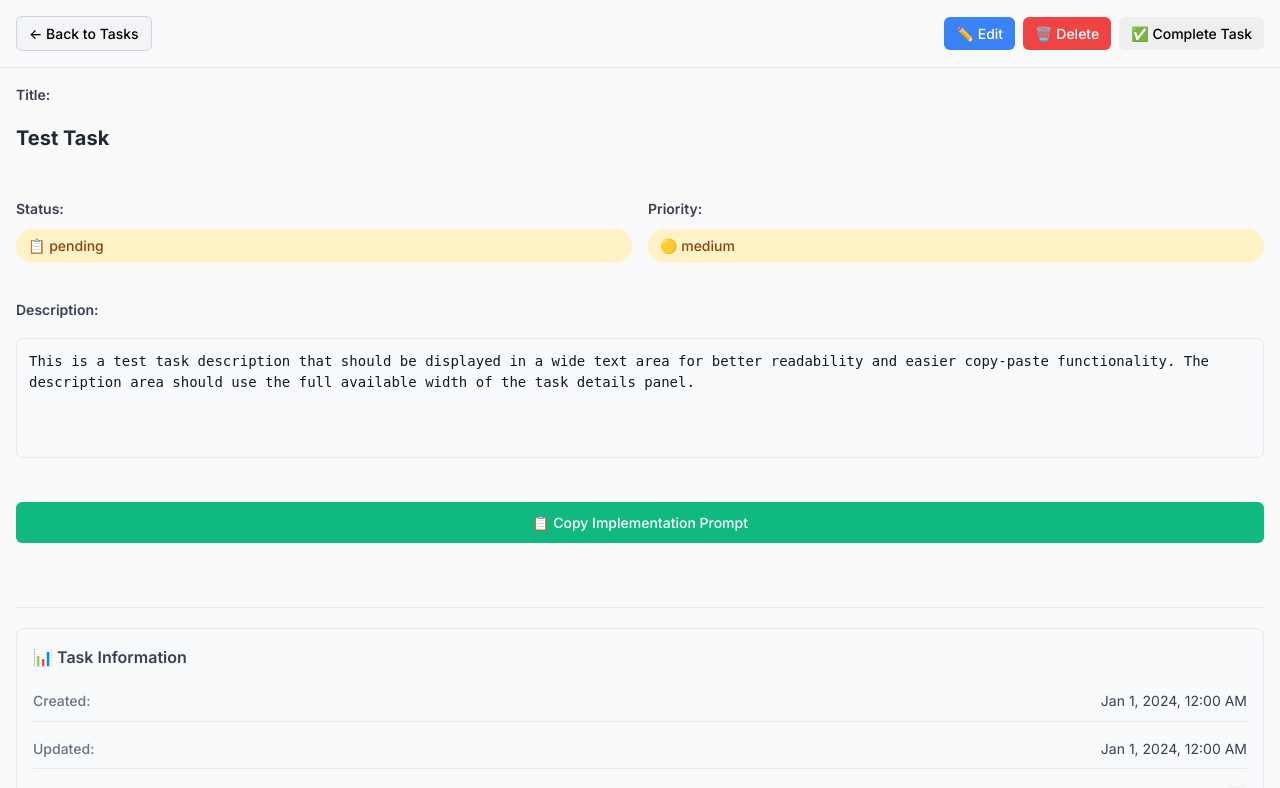
Task Description Width › description textarea uses full width in edit mode
Note: Enter edit mode
Click the button "✏️ Edit" at (980, 34), box [944,17,1015,50]
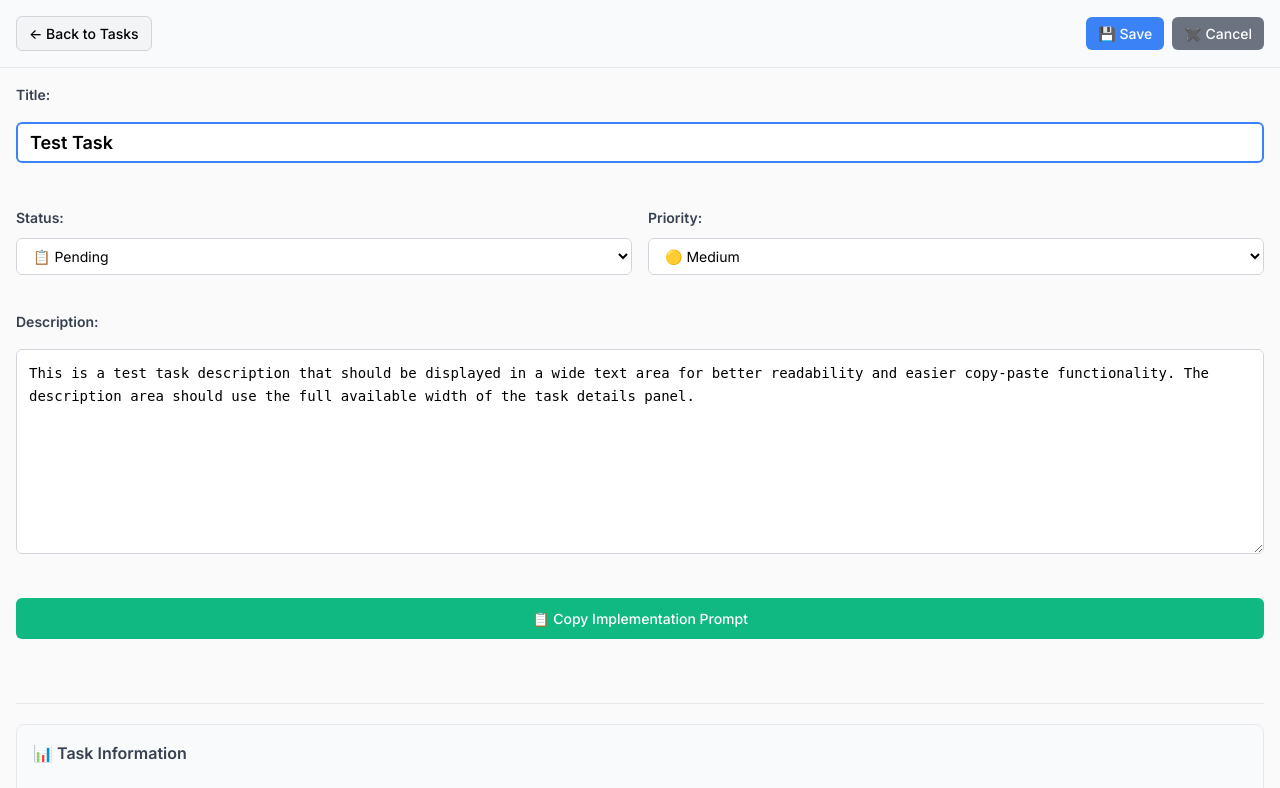
Result: the text box showing "This is a test task description that should be displayed in a wide text area for better readability and easier copy-past" is shown at [16,349,1264,554]
